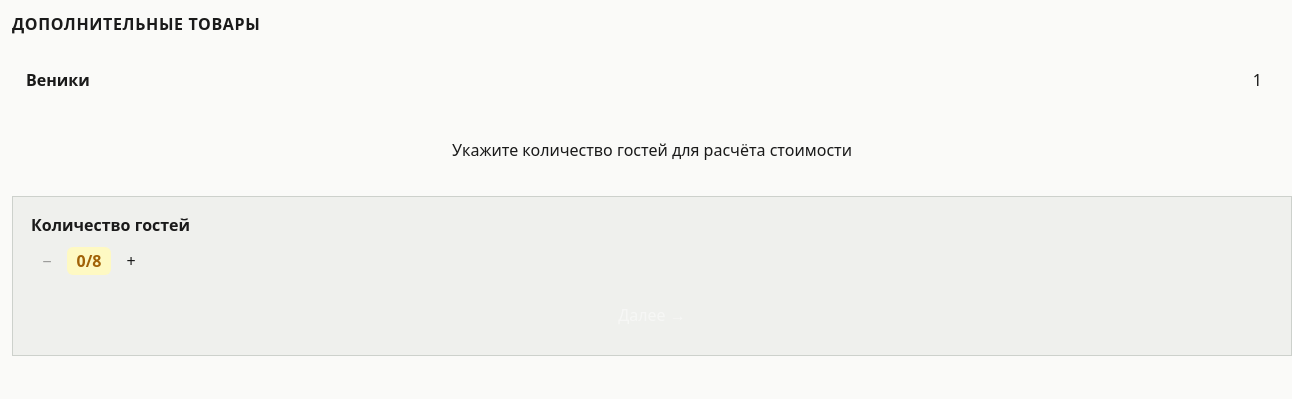
StepSetup › keeps Next disabled when API total is empty without slotPrice
Click the button named "Увеличить количество гостей": click(131, 261) [115,245,147,277]
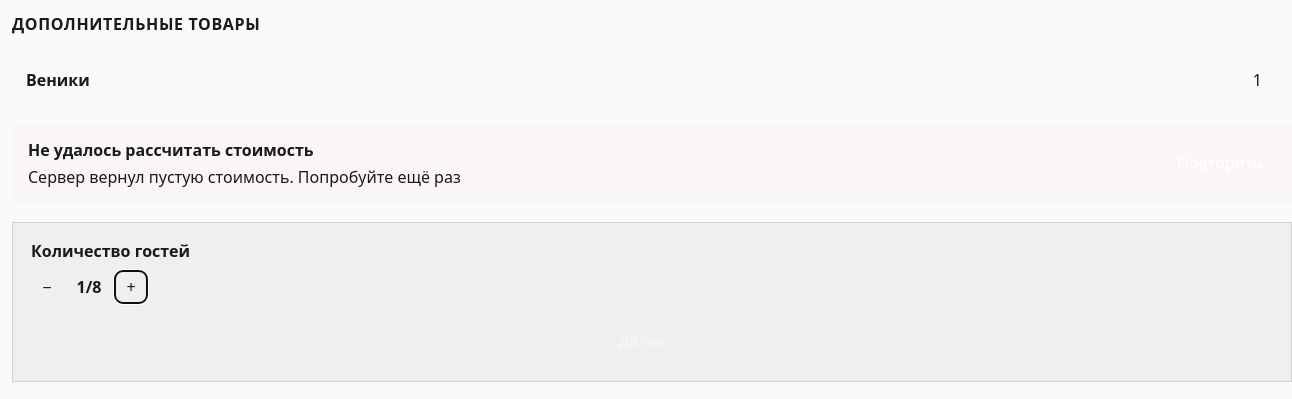
Check: the text "Не удалось рассчитать стоимость" is shown, box [28,139,314,161]
